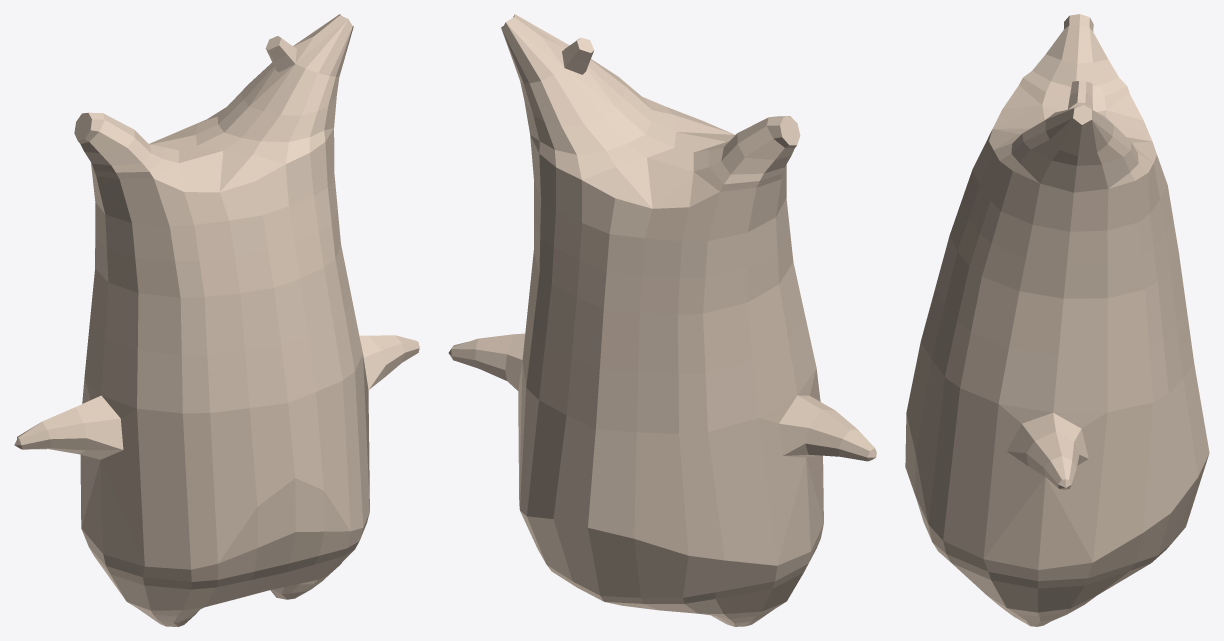
The model's file is frame_0031.obj.
3 renders of one model, left to right at view 1: azimuth 30°, elevation 25°; view 2: azimuth 150°, elevation 25°; view 3: azimuth 270°, elevation 25°, orthographic. The views are drawn at different scales.
Parts seen in each view (by area): view 1: korok; view 2: korok; view 3: korok.
Part boxes in pixels (x1,y1,x2,y2): korok: (14, 14, 419, 626); korok: (448, 14, 876, 626); korok: (905, 14, 1209, 626).
Size of the model in its own units: 1.67 by 2.15 by 1.06.
